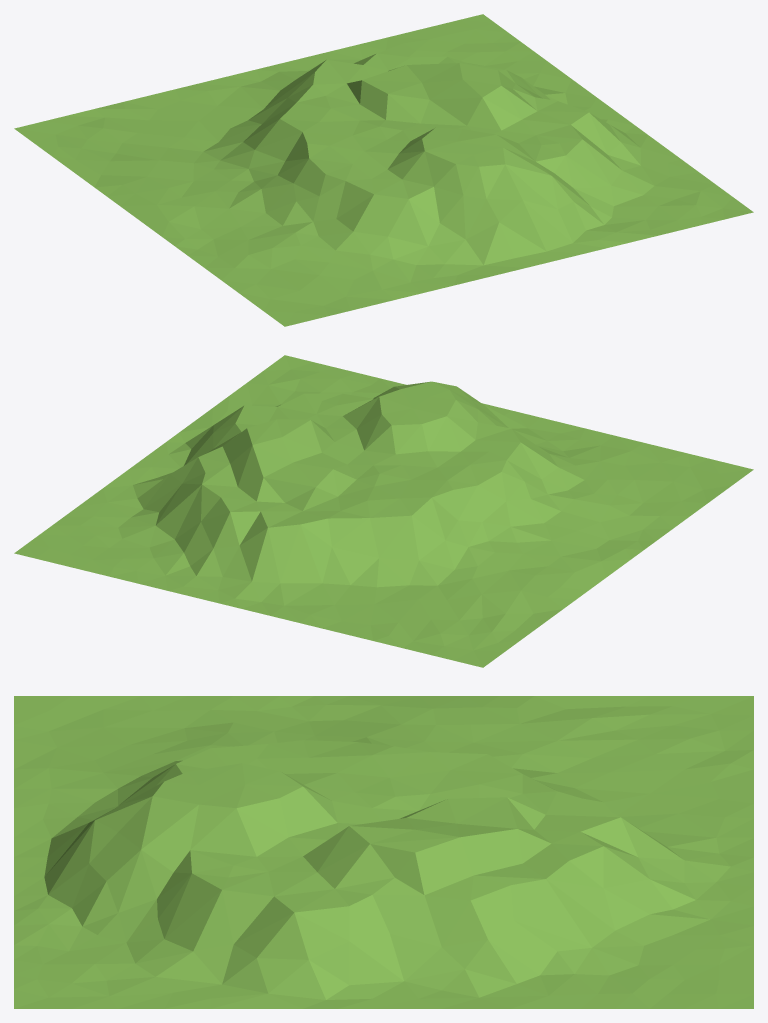
File: MT_Terrain_M_c_10_LOD.fbx
The picture shows the model from 3 angles, top to bottom: view 1: azimuth 30°, elevation 25°; view 2: azimuth 150°, elevation 25°; view 3: azimuth 270°, elevation 25°; orthographic projection. The views are drawn at different scales.
Parts seen in each view (by area): view 1: MT_Terrain_M_c_10_LOD0; view 2: MT_Terrain_M_c_10_LOD0; view 3: MT_Terrain_M_c_10_LOD0.
Boxes of the visible parts, <box> form: MT_Terrain_M_c_10_LOD0: <box>14,14,753,326</box>; MT_Terrain_M_c_10_LOD0: <box>14,355,753,667</box>; MT_Terrain_M_c_10_LOD0: <box>14,696,753,1008</box>.
Size of what is drawn, in the model's own units: 5000 by 636 by 5000.
